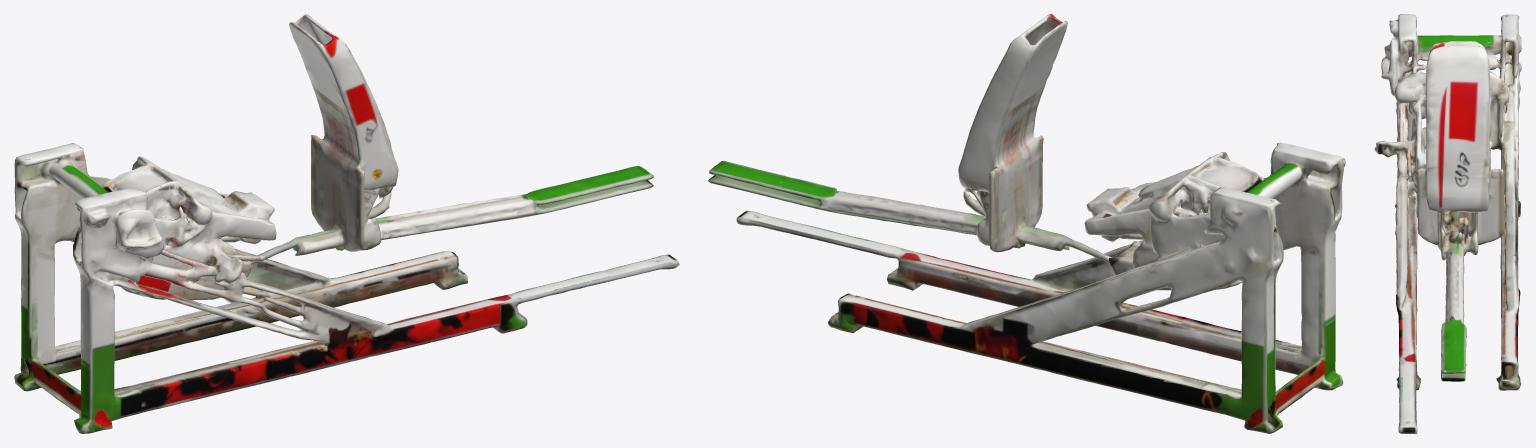
Rendered from autovoltejador.glb.
3 renders of one model, left to right at view 1: azimuth 30°, elevation 25°; view 2: azimuth 150°, elevation 25°; view 3: azimuth 270°, elevation 25°, orthographic. The views are drawn at different scales.
Size of the model in its own units: 2.01 by 1.03 by 0.505.
1 material, 1 textured.
